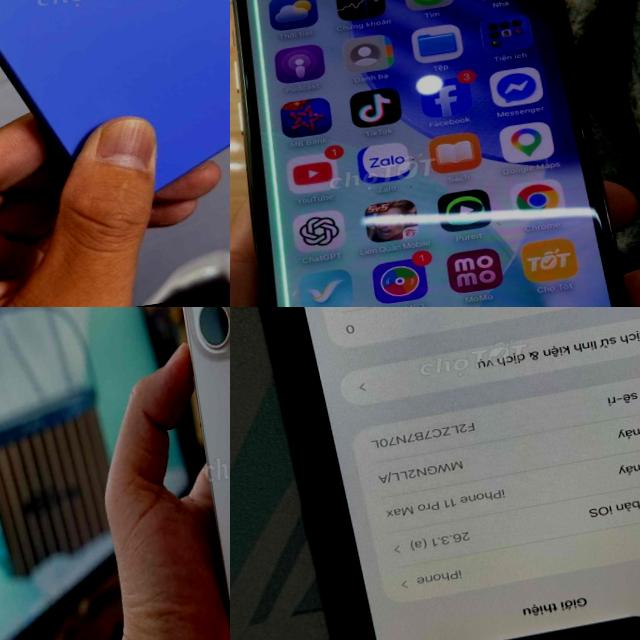gen_11: (232, 0, 627, 307), (282, 307, 640, 640)
gen_15: (155, 307, 230, 640)
gen_16: (0, 0, 230, 189)
